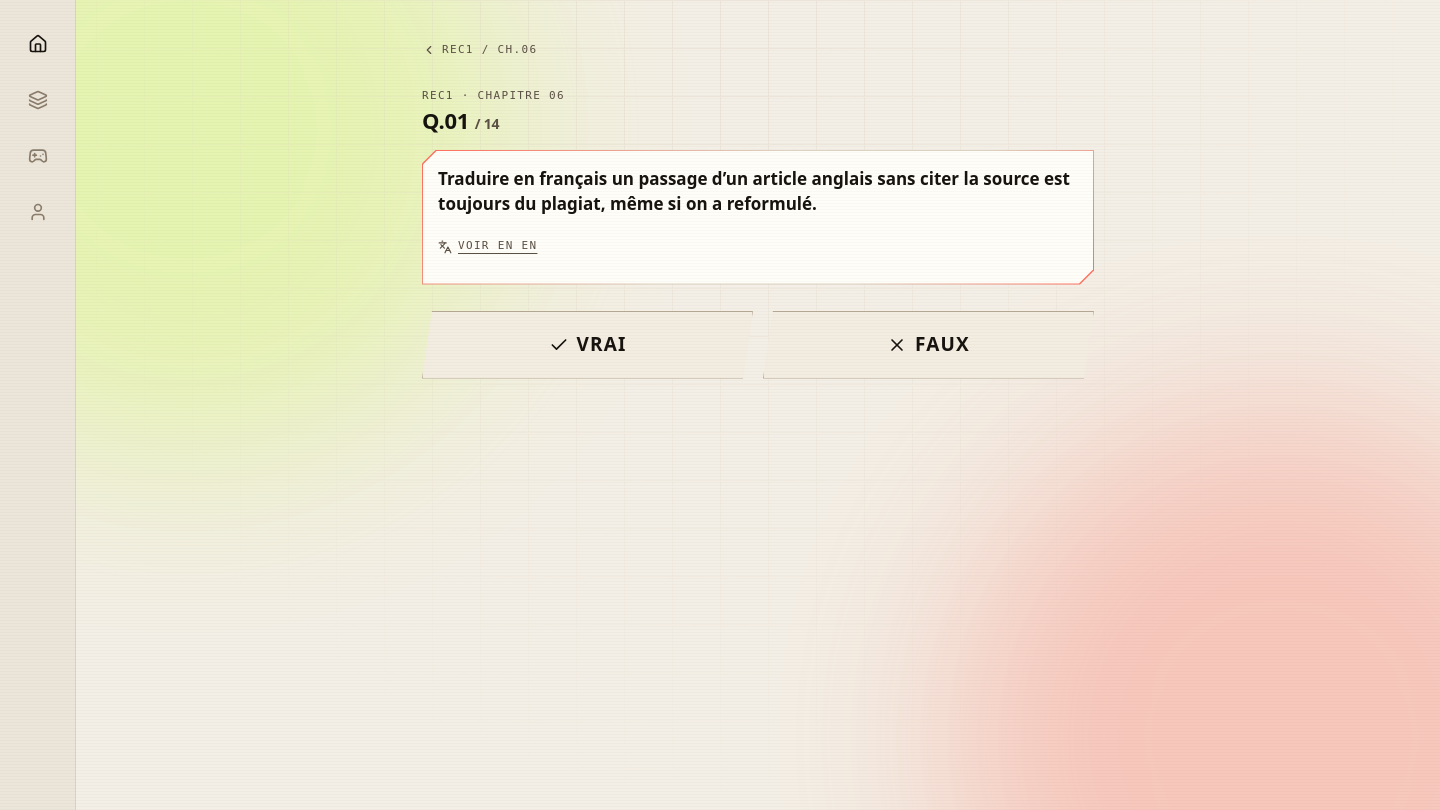
QuizRunner REC1-05 › vrai/faux : FAUX ouvre le champ de justification, affichée avec la justification officielle
This screenshot has width=1440, height=810.
Expected: the message named "Question 1 sur" is shown, x1=422 y1=104 x2=499 y2=134
Expected: the field labelled "Ta justification" is not shown
Click the button "Faux": (928, 344) x1=763 y1=310 x2=1094 y2=378
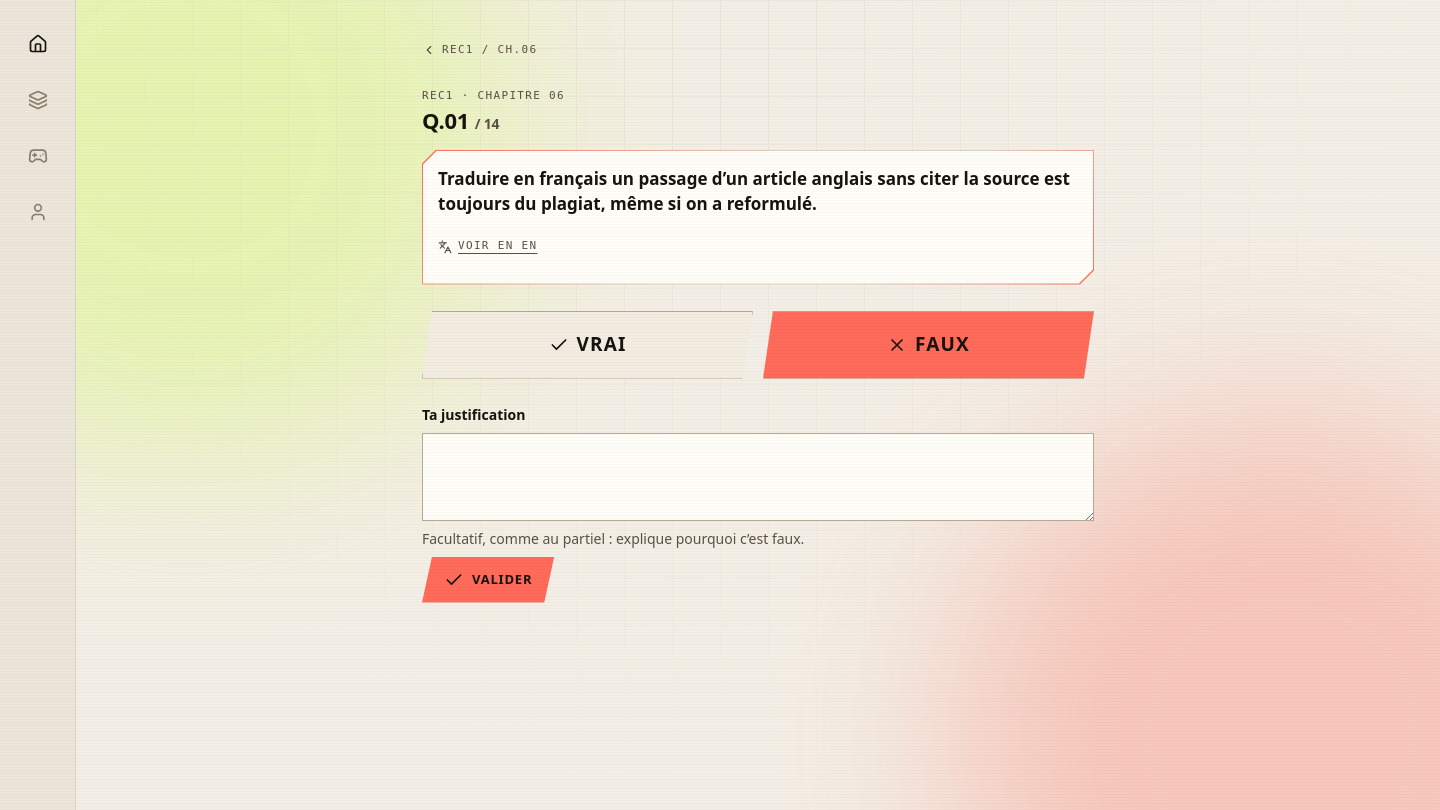
In the text box labelled "Ta justification": (758, 476) x1=422 y1=432 x2=1094 y2=520, type "parce que mon avis"
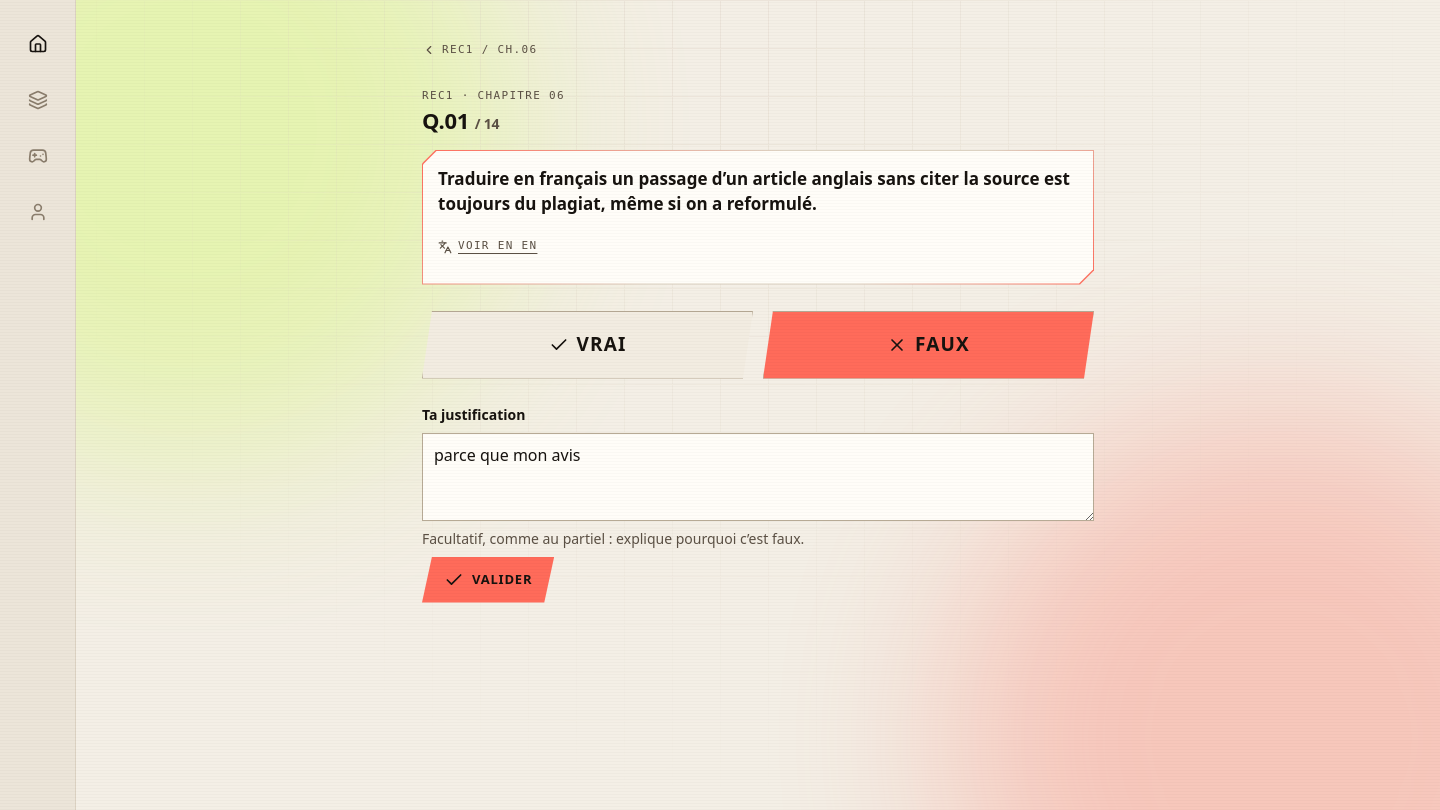
Click the button "Valider": (488, 580) x1=422 y1=556 x2=554 y2=602
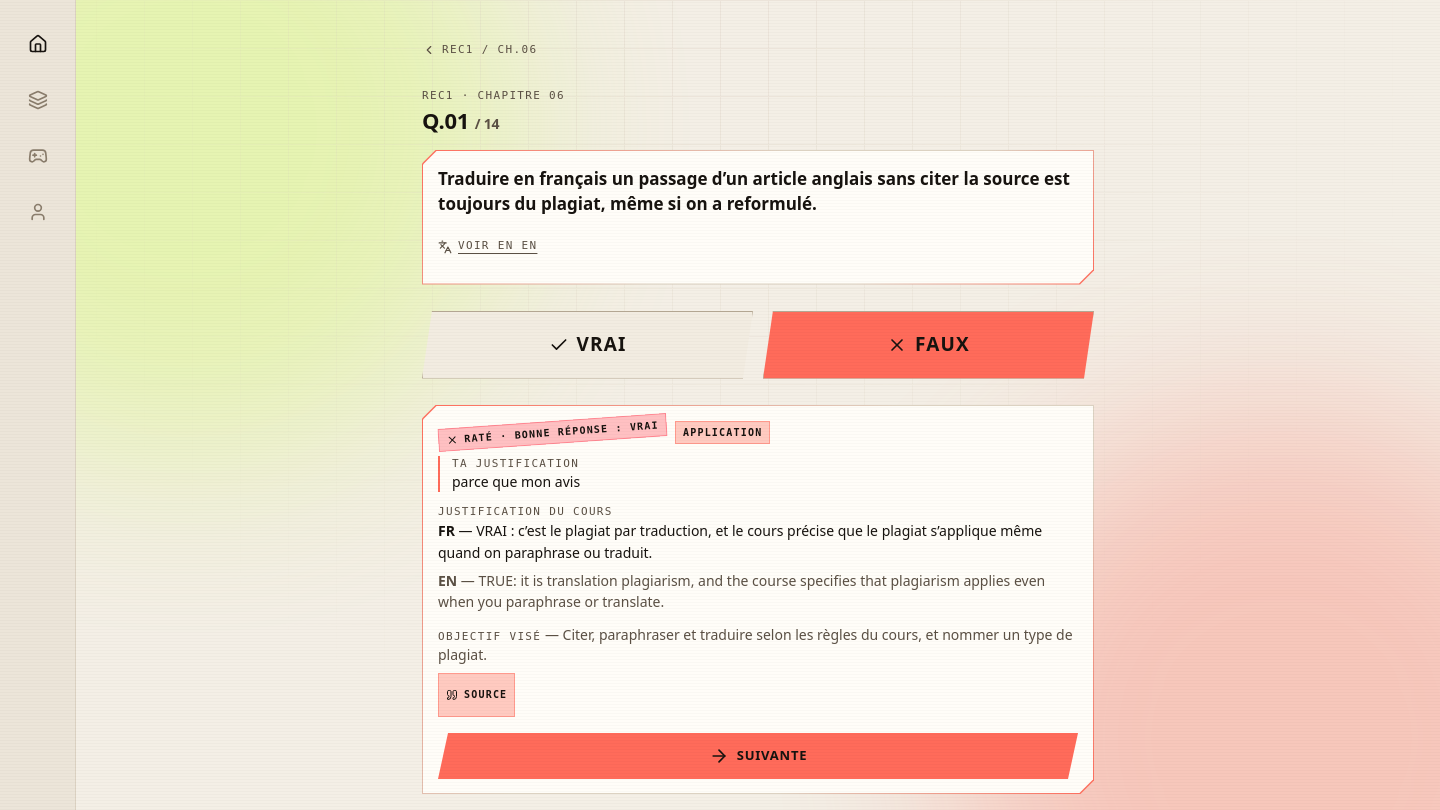
Result: the text "parce que mon avis" is shown at x1=452 y1=471 x2=580 y2=490
Result: the text "Justification du cours" is shown at x1=438 y1=504 x2=613 y2=517
Result: the button with aria-label "Voir la source dans le cours" is shown at x1=438 y1=672 x2=515 y2=716
